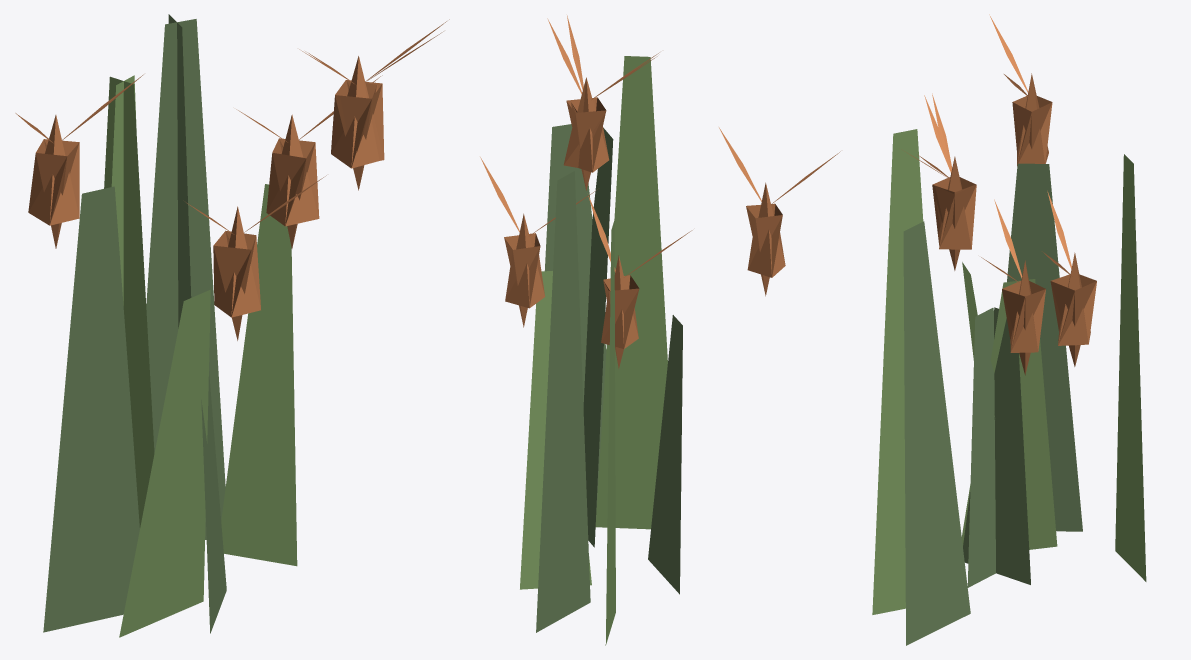
File: nong.dao@fruiting__summer.glb
The picture shows the model from 3 angles, left to right: view 1: azimuth 30°, elevation 25°; view 2: azimuth 150°, elevation 25°; view 3: azimuth 270°, elevation 25°; orthographic projection. The views are drawn at different scales.
Parts seen in each view (by area): view 1: nong.dao@fruiting__summer; view 2: nong.dao@fruiting__summer; view 3: nong.dao@fruiting__summer.
Part boxes in pixels (x1,y1,x2,y2): nong.dao@fruiting__summer: [15, 14, 449, 637]; nong.dao@fruiting__summer: [480, 15, 840, 645]; nong.dao@fruiting__summer: [872, 14, 1146, 645].
Bounding box in the file's own units: 0.7703 × 1.07 × 0.5942.
